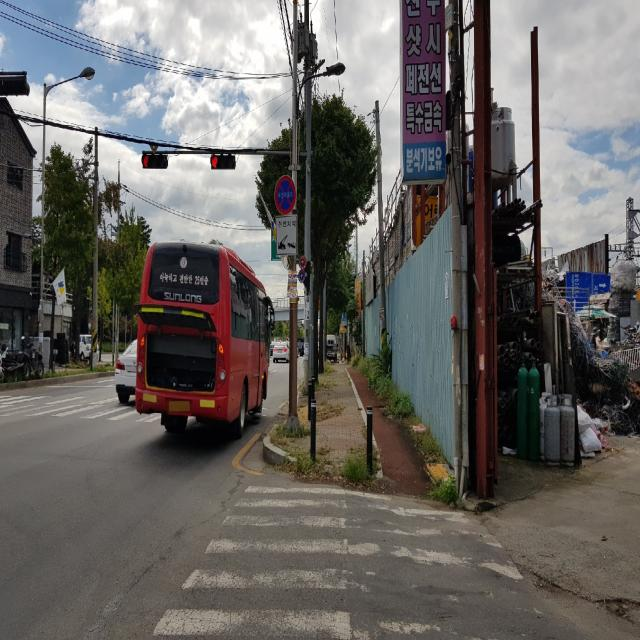횡단보도: (151, 483, 525, 640)
